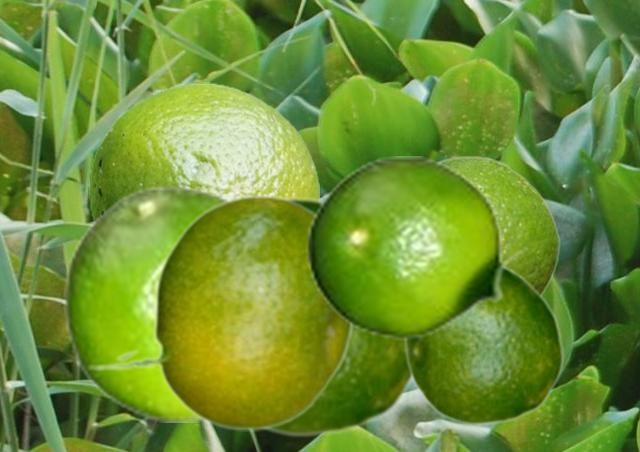calamansi: (86, 193, 354, 430), (63, 184, 233, 421), (305, 156, 525, 339), (259, 195, 411, 437), (89, 82, 318, 222), (402, 266, 564, 425), (439, 155, 559, 294)
